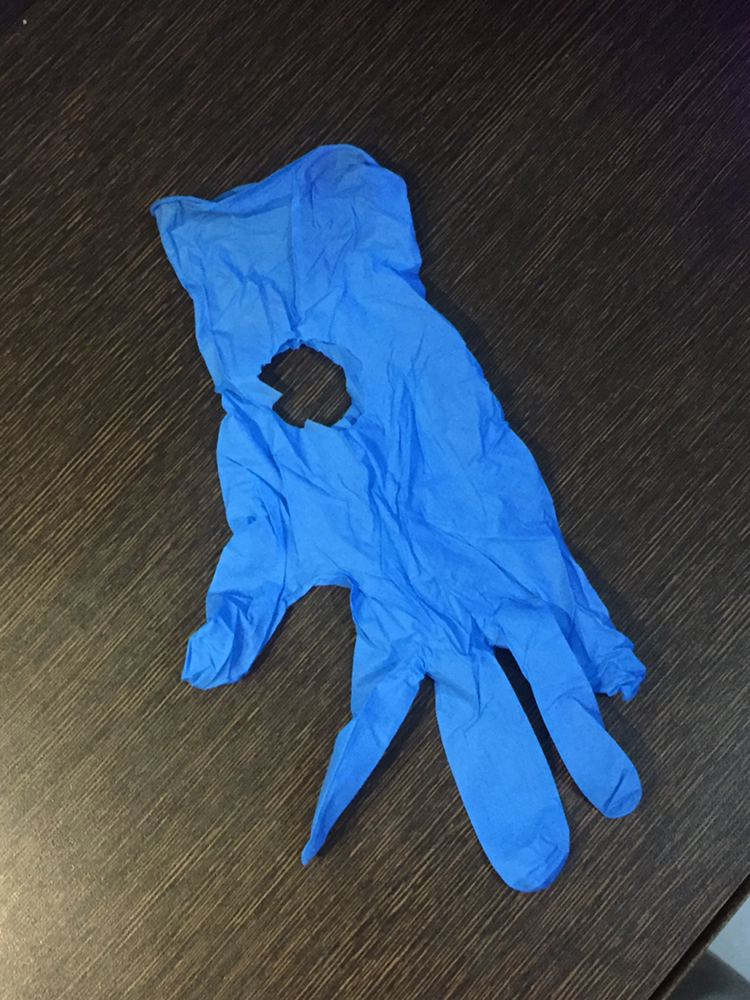defected: (106, 150, 674, 889)
